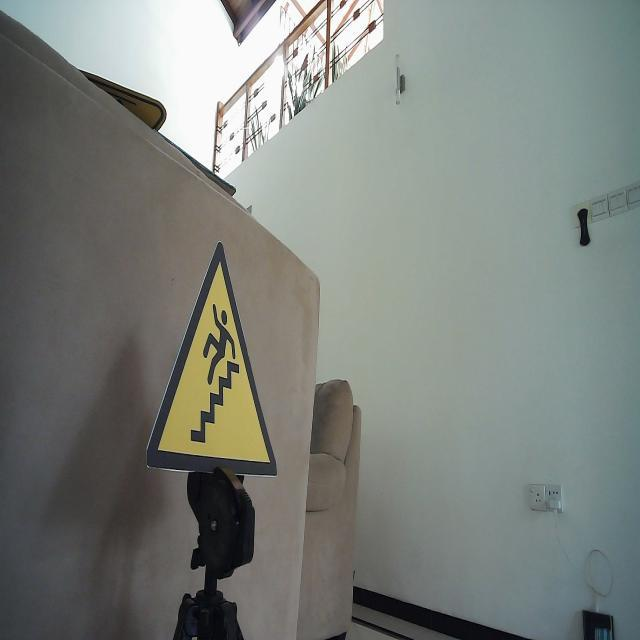stairs: (144, 238, 279, 480)
